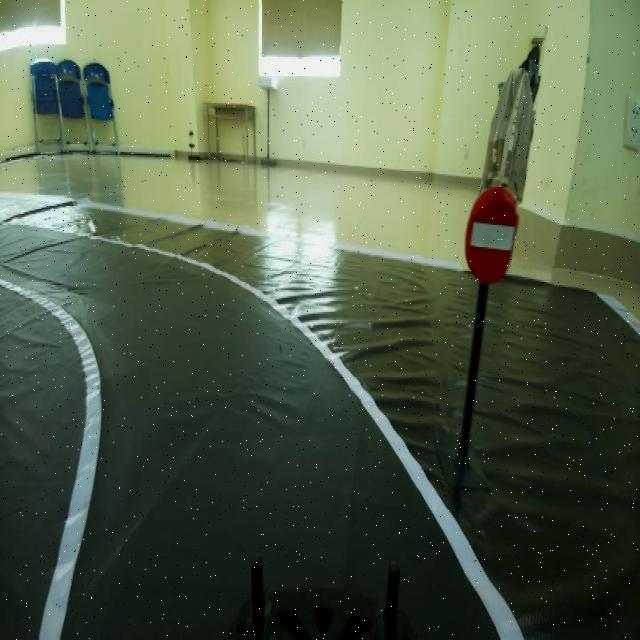no_entry: (459, 179, 522, 295)
